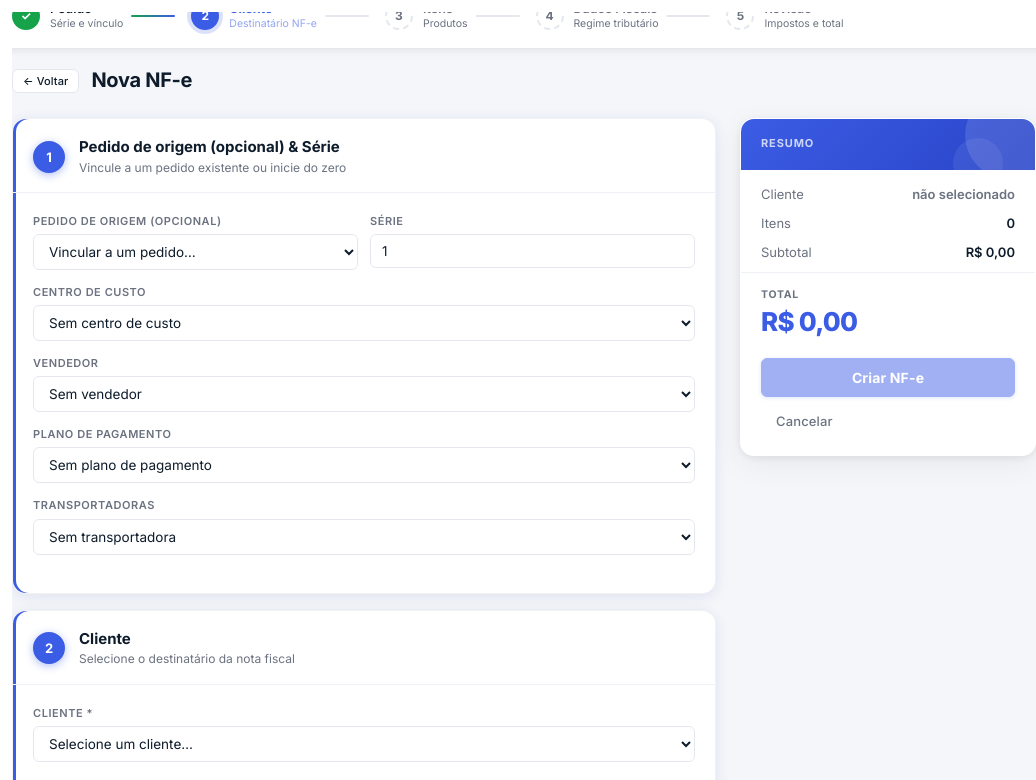
it: InvoiceNewPage — herança de dados do pedido (regra 61) › herda o vendedor do pedido vinculado
This screenshot has width=1036, height=780.
Select "#00001 — ACME Ltda" in the dropdown labelled "Pedido de origem (opcional)" at coordinates (196, 252), box x1=33 y1=234 x2=358 y2=270
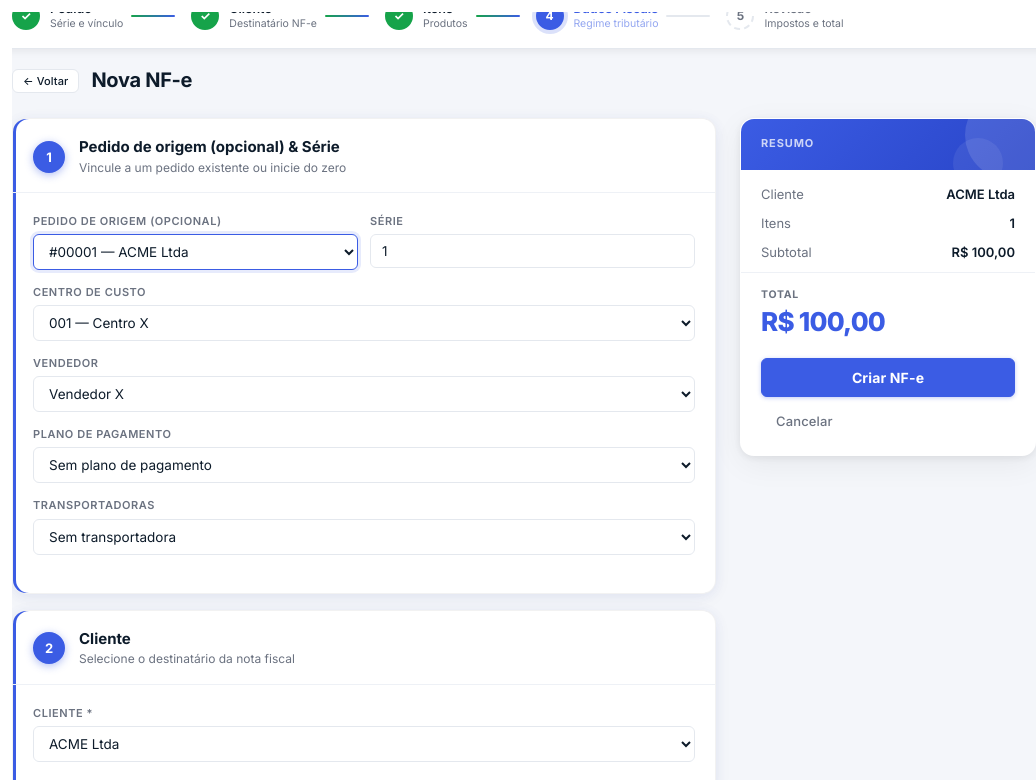
Expected: the dropdown labelled "Vendedor" shows "Vendedor X", x1=33 y1=376 x2=695 y2=412
